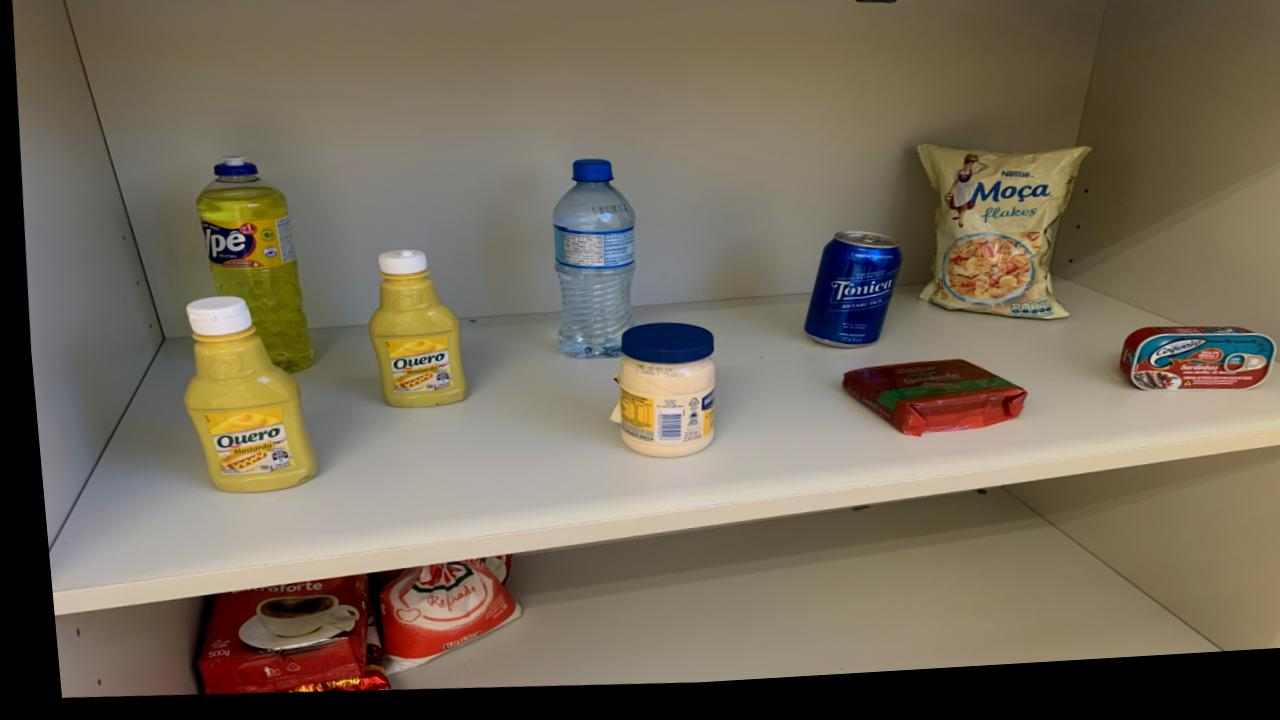Detergent-Cleanup_Items: (192, 161, 306, 374)
Flakes-Snacks: (915, 156, 1088, 332)
Guava-Snacks: (835, 372, 1019, 448)
Mayonnaise-Pantry_Items: (606, 330, 708, 466)
Mustard-Pantry_Items: (176, 298, 309, 495), (362, 254, 460, 412)
Tonic-Drinks: (798, 242, 896, 358)
Tuna_Can-Pantry_Items: (1112, 341, 1268, 405)
Water_Bottle-Drinks: (548, 166, 631, 365)
